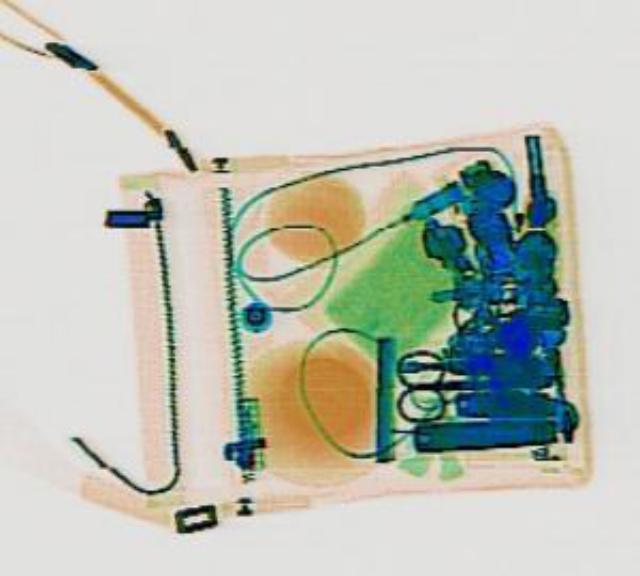Scissors: (390, 342, 550, 421)
